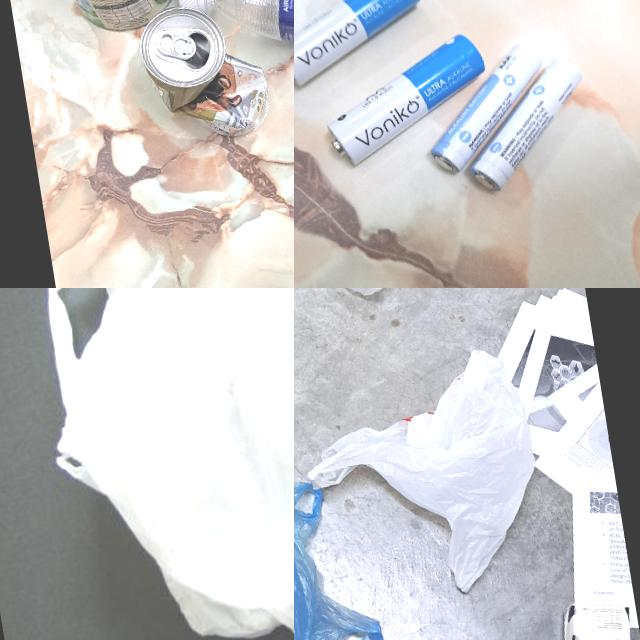aba de lata: (154, 26, 198, 62)
bateria: (316, 29, 497, 169), (454, 52, 600, 196), (414, 40, 556, 178), (294, 0, 431, 93)
caixinha: (553, 593, 635, 640)
lata: (134, 0, 276, 149), (25, 0, 185, 42)
papel: (488, 288, 633, 611)
sacola plástica: (15, 288, 294, 640), (296, 340, 552, 616), (211, 288, 294, 551), (294, 470, 390, 640)
tampa plástica: (174, 0, 207, 13)
